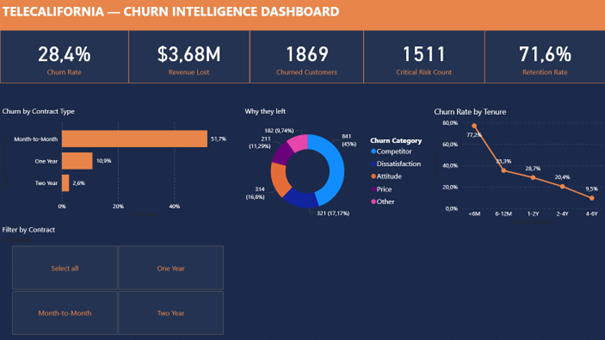

This screenshot's page, from the dashboard's own definition file:
{"tool":"powerbi","page":{"name":"Executive Overview","canvas":[1280,720],"ordinal":0},"visuals":[{"type":"textbox","box":[0,0,1280,64],"z":0},{"type":"card","fields":{"Values":["telecom_clean_powerbi.Churn Rate"]},"box":[0,64,272,112],"z":1000},{"type":"card","fields":{"Values":["telecom_clean_powerbi.Revenue Lost"]},"box":[272,64,256,112],"z":2000},{"type":"card","fields":{"Values":["telecom_clean_powerbi.Churned Customers"]},"box":[528,64,240,112],"z":3000},{"type":"card","fields":{"Values":["telecom_clean_powerbi.Critical Risk Count"]},"box":[768,64,256,112],"z":4000},{"type":"card","fields":{"Values":["telecom_clean_powerbi.Retention Rate"]},"box":[1024,64,256,112],"z":5000},{"type":"clusteredBarChart","title":"Churn by Contract Type","fields":{"Category":["telecom_clean_powerbi.Contract"],"Y":["telecom_clean_powerbi.Churn Rate"]},"box":[0,224,496,240],"z":6000},{"type":"donutChart","title":"Why they left","fields":{"Category":["telecom_clean_powerbi.Churn Category"],"Y":["telecom_clean_powerbi.Churned Customers"]},"box":[512,224,400,256],"z":7000},{"type":"lineChart","title":"Churn Rate by Tenure","fields":{"Category":["telecom_clean_powerbi.Tenure_Segment"],"Y":["telecom_clean_powerbi.Churn Rate"]},"box":[912,224,368,256],"z":8000},{"type":"slicer","title":"Filter by Contract","fields":{"Values":["telecom_clean_powerbi.Contract"]},"box":[0,474,496,240],"z":9000}]}

Visuals, with their boxes in screenshot pixels (x1, y1, x2, y2), scaled from the page's 1280x720 canvas onto the 605x340 screenshot:
textbox: {"x1": 0, "y1": 0, "x2": 604, "y2": 30}
card - telecom_clean_powerbi.Churn Rate: {"x1": 0, "y1": 30, "x2": 129, "y2": 83}
card - telecom_clean_powerbi.Revenue Lost: {"x1": 129, "y1": 30, "x2": 250, "y2": 83}
card - telecom_clean_powerbi.Churned Customers: {"x1": 250, "y1": 30, "x2": 363, "y2": 83}
card - telecom_clean_powerbi.Critical Risk Count: {"x1": 363, "y1": 30, "x2": 484, "y2": 83}
card - telecom_clean_powerbi.Retention Rate: {"x1": 484, "y1": 30, "x2": 604, "y2": 83}
"Churn by Contract Type" clusteredBarChart: {"x1": 0, "y1": 106, "x2": 234, "y2": 219}
"Why they left" donutChart: {"x1": 242, "y1": 106, "x2": 431, "y2": 227}
"Churn Rate by Tenure" lineChart: {"x1": 431, "y1": 106, "x2": 604, "y2": 227}
"Filter by Contract" slicer: {"x1": 0, "y1": 224, "x2": 234, "y2": 337}
